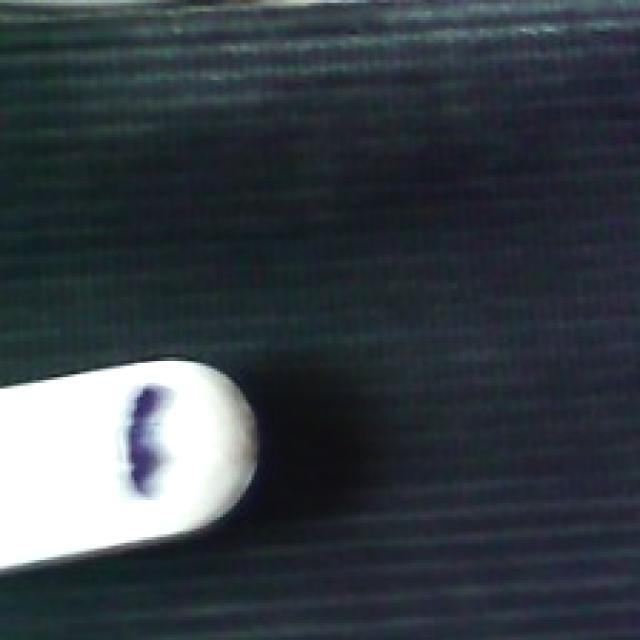defected: (3, 348, 277, 568)
